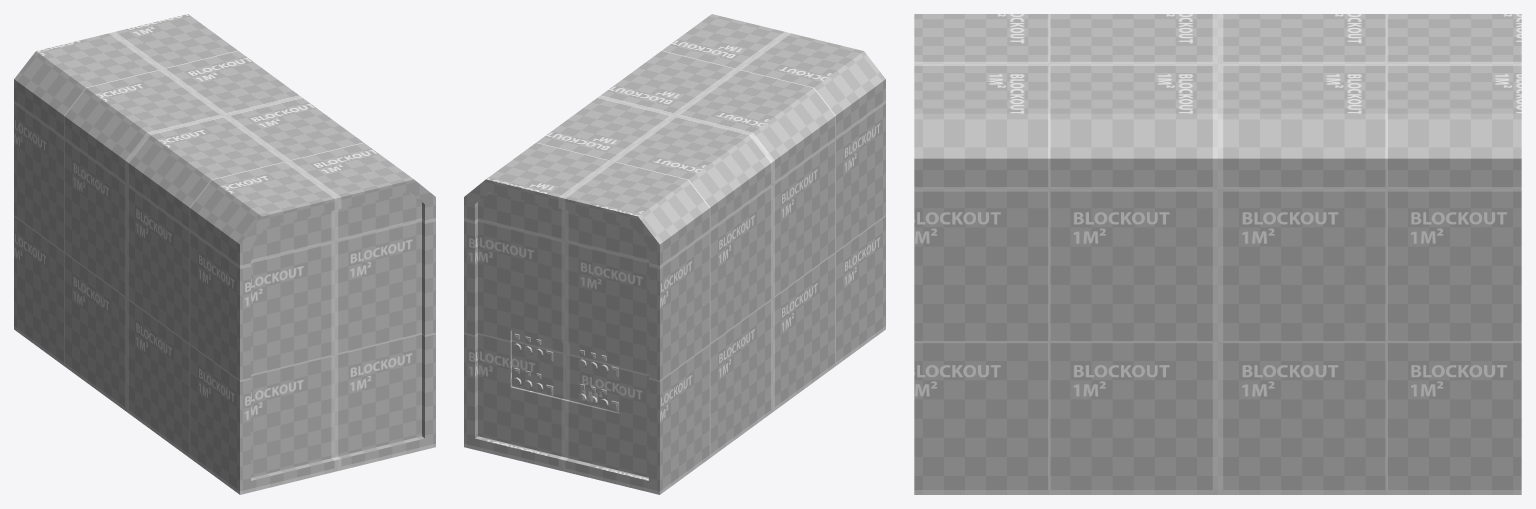
File: GeneratorLarge.fbx
3 renders of one model, left to right at view 1: azimuth 30°, elevation 25°; view 2: azimuth 150°, elevation 25°; view 3: azimuth 270°, elevation 25°, orthographic. The views are drawn at different scales.
Parts seen in each view (by area): view 1: GeneratorLarge; view 2: GeneratorLarge; view 3: GeneratorLarge.
Part boxes in pixels (<box>): GeneratorLarge: <box>14,14,435,494</box>; GeneratorLarge: <box>464,14,885,494</box>; GeneratorLarge: <box>914,14,1521,494</box>.
Bounding box in the file's own units: 180 × 240 × 360.
